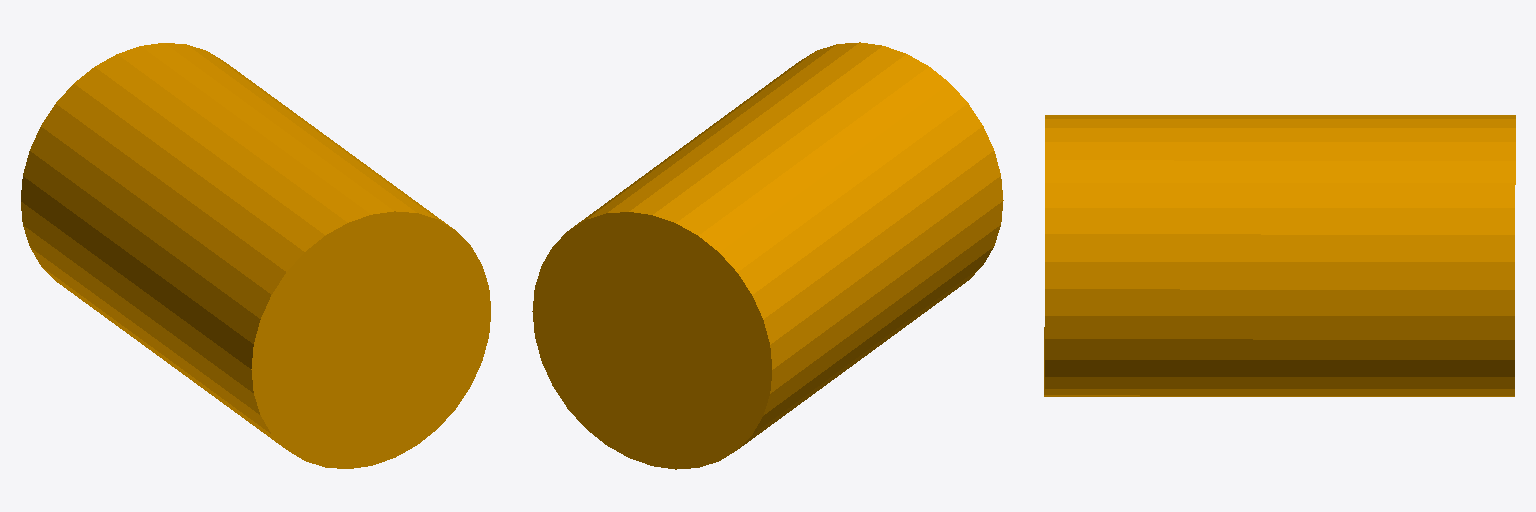
URDF robot description (curved_wall):
<?xml version="1.0" encoding="utf-8"?>
<!-- This URDF was automatically created by SolidWorks to URDF Exporter! Originally created by Stephen Brawner (brawner@gmail.com) 
     Commit Version: 1.6.0-4-g7f85cfe  Build Version: 1.6.7995.38578
     For more information, please see http://wiki.ros.org/sw_urdf_exporter -->
<robot
  name="curved_wall">
  <link name="curved_wall">
      <visual>
        <origin xyz="0 0 0.6" rpy="1.57 0 0"/>
        <geometry>
          <cylinder length="4" radius="1.2" />
        </geometry>
        <material name="0 0 0 1"/>
      </visual>
      <collision>
        <origin xyz="0 0 0" rpy="0 0 0"/>
        <geometry>
          <cylinder length="4" radius="1.2"/>
        </geometry>
      </collision>
      <inertial>
        <origin xyz="0 0 0" rpy="0 0 0"/>
        <mass value="12"/>
        <inertia
            ixx="1.00" ixy="0.0" ixz="0.0"
            iyy="1.00" iyz="0.0"
            izz="1.00"/>
      </inertial>
    </link>

  <gazebo reference="curved_wall">
    <material>Gazebo/Black</material>
    <mu1>0.001</mu1>
    <mu2>0.001</mu2>
  </gazebo>

  <gazebo>
    <static>true</static>
  </gazebo>



</robot>

--- What the picture shows (computed from the rendered views, not written in the file) ---
3 views of the same robot in one strip: view 1: azimuth 30°, elevation 25°; view 2: azimuth 150°, elevation 25°; view 3: azimuth 270°, elevation 25° (orthographic).
Model curved_wall with 1 links and 0 joints (none), rooted at curved_wall, posed all joints at 0.
Visible links, largest first — view 1: curved_wall; view 2: curved_wall; view 3: curved_wall.
Link boxes in pixels (left/top/right/bottom): curved_wall: left=21, top=43, right=490, bottom=468; curved_wall: left=532, top=42, right=1003, bottom=469; curved_wall: left=1044, top=115, right=1515, bottom=396.
Size in the robot's own frame: 2.4 by 4 by 2.4 metres.
Geometry: primitives only (box / cylinder / sphere), no mesh files.
